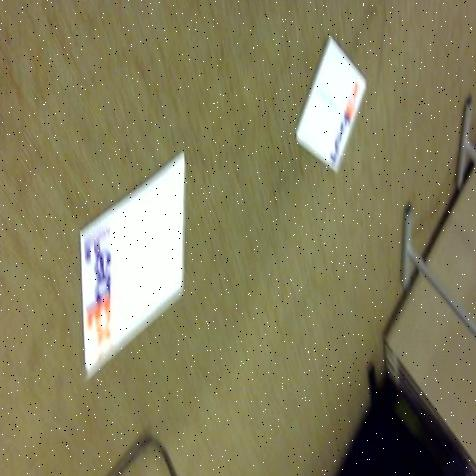Amazon: (74, 160, 192, 378), (302, 29, 382, 189)
